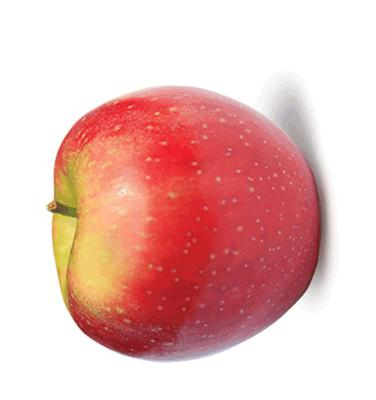apple: (0, 0, 376, 400)
